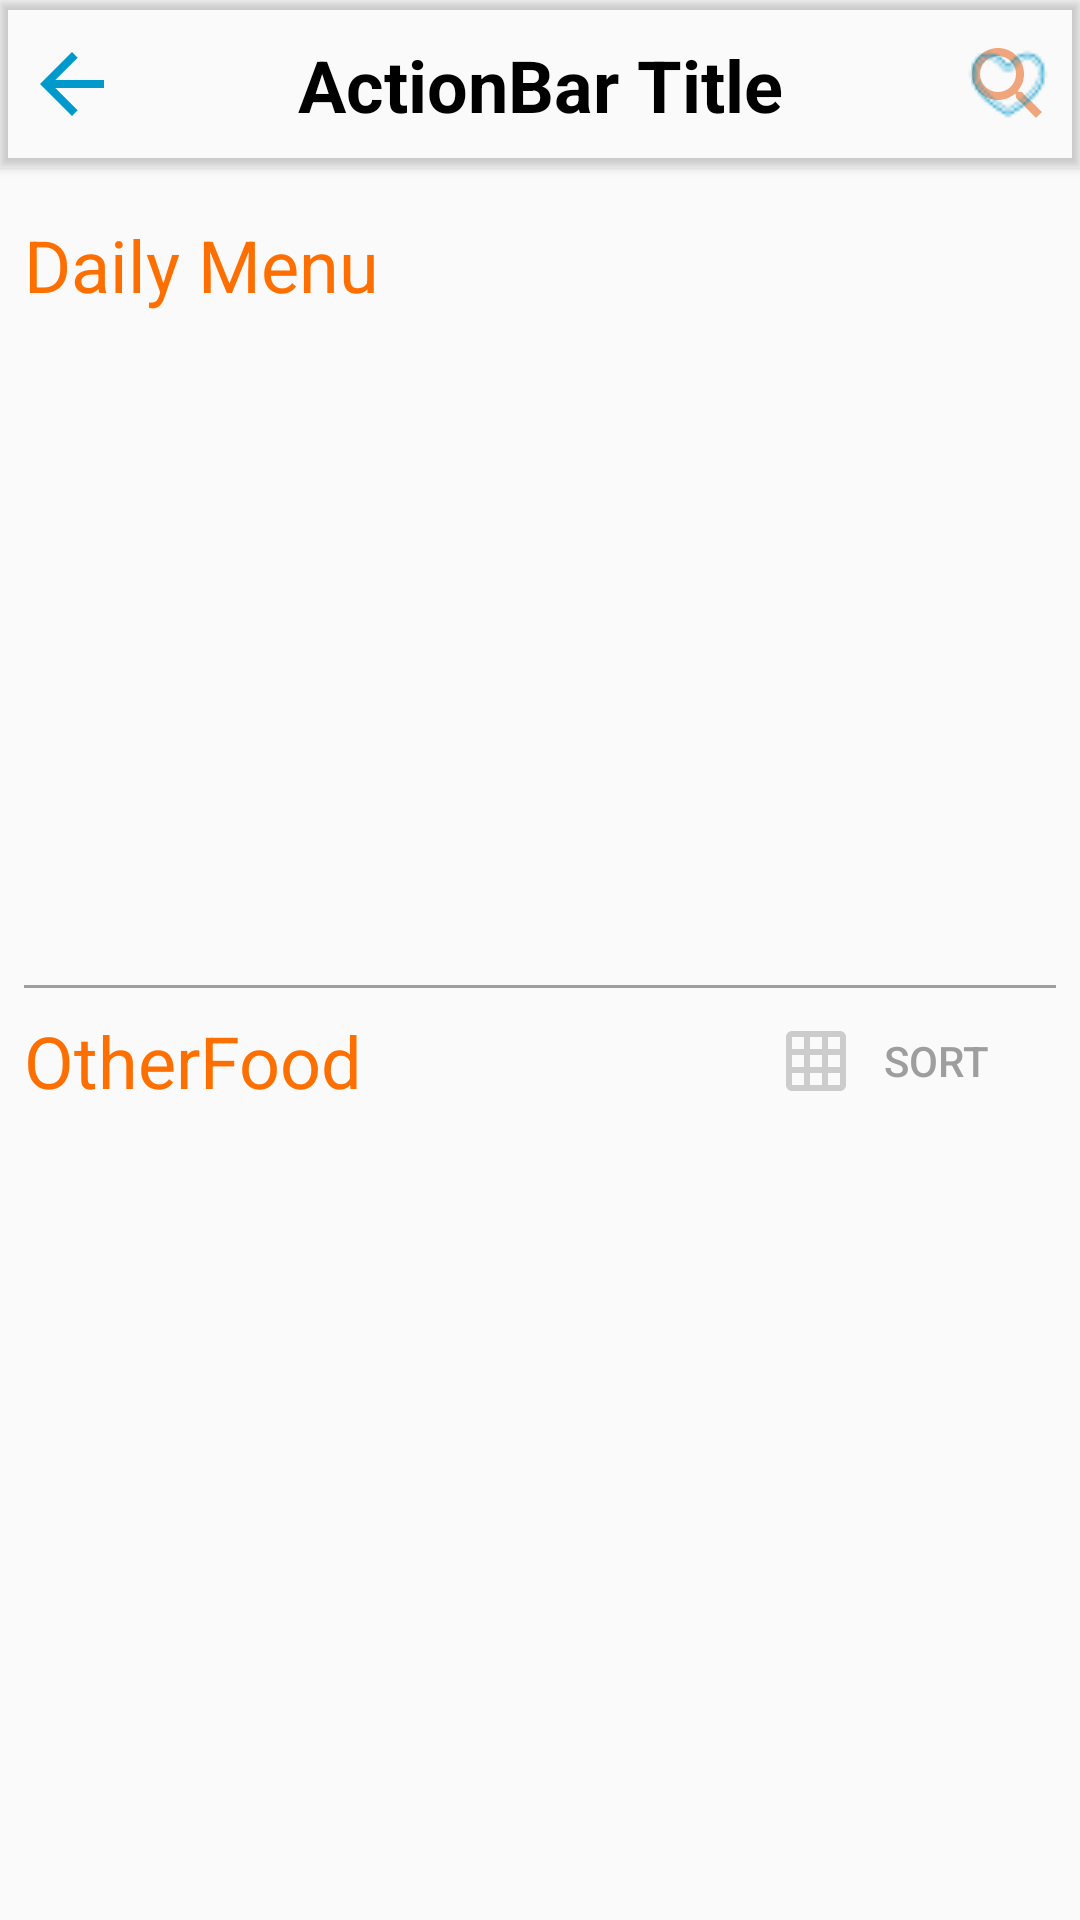

Where to tap for icons on this 1080*1920 app screen, as (x=x, y=y):
back: (x=72, y=84)
